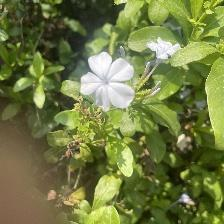chitrak: (79, 48, 139, 113)
